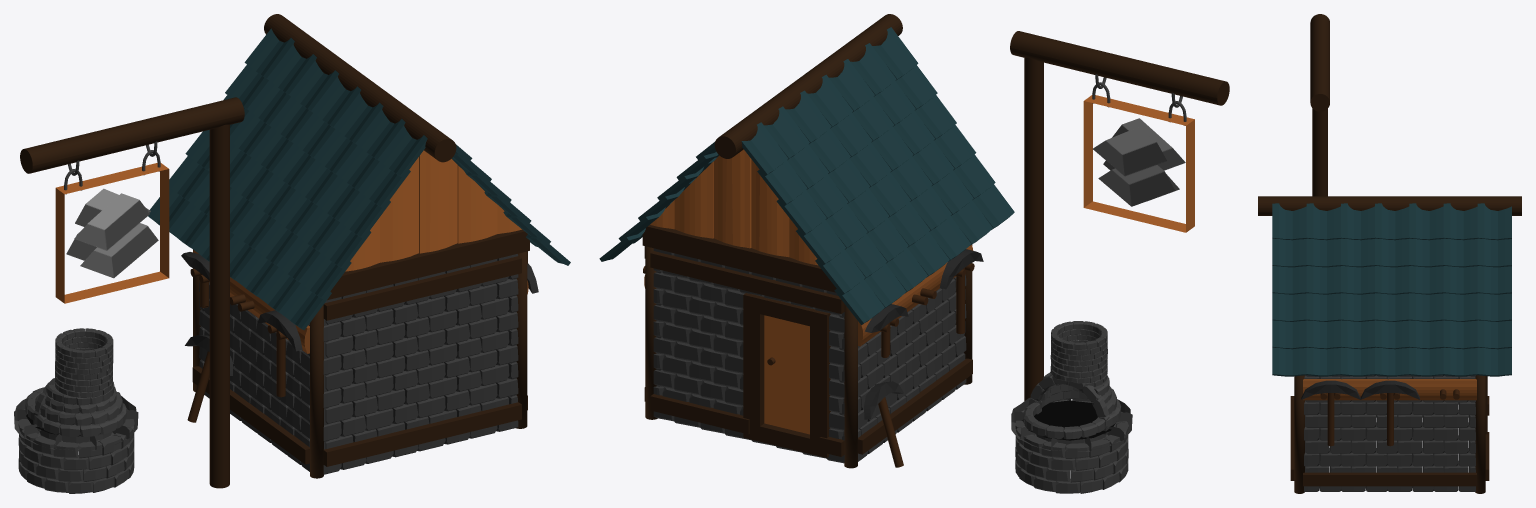
Rendered from MetalMineBuilding.fbx.
3 views of the same model, side by side, from view 1: azimuth 30°, elevation 25°; view 2: azimuth 150°, elevation 25°; view 3: azimuth 270°, elevation 25° (orthographic). The views are drawn at different scales.
Parts seen in each view (by area): view 1: House, Brick.002, Cylinder.005, Icon, Brick.001, FurnaceBase, Cube.008, Cube.010, Cube.004, Pickaxe.002, Pickaxe, BrokenPickaxe; view 2: House, Brick.003, Cylinder.005, Icon, Brick.001, FurnaceBase, Cube.008, Cube.010, Plane.001, Cube.004, Pickaxe, Pickaxe.002 (+1 smaller); view 3: House, Brick.001, Cylinder.005, Pickaxe.001.
Boxes of the visible parts, x1,y1,x2,y2 form: House: (148,14,570,478); Brick.002: (309,254,518,474); Cylinder.005: (20,97,244,488); Icon: (55,163,169,303); Brick.001: (199,278,516,471); FurnaceBase: (18,419,134,493); Cube.008: (25,378,126,436); Cube.010: (55,328,113,397); Cube.004: (14,396,138,450); Pickaxe.002: (258,310,302,397); Pickaxe: (185,335,233,422); BrokenPickaxe: (181,252,209,308); House: (599,14,1014,468); Brick.003: (653,248,844,463); Cylinder.005: (1010,31,1229,400); Icon: (1083,95,1194,232); Brick.001: (656,271,966,461); FurnaceBase: (1015,400,1128,493); Cube.008: (1023,371,1121,439); Cube.010: (1050,321,1107,387); Plane.001: (1022,400,1115,440); Cube.004: (1011,397,1132,451); Pickaxe: (864,381,903,467); Pickaxe.002: (939,249,983,334); House: (1258,196,1521,493); Brick.001: (1304,375,1475,491); Cylinder.005: (1310,14,1329,196); Pickaxe.001: (1301,380,1419,446).
Size of the model in its own units: 2633 by 1926 by 1514.
